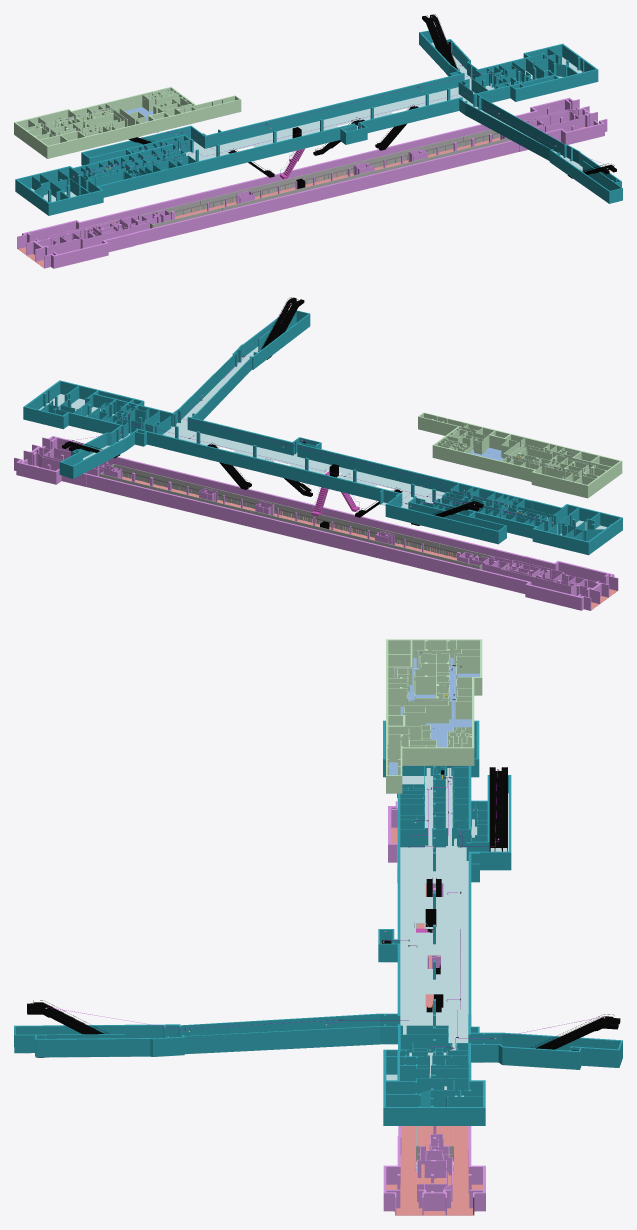
The picture shows the model from 3 angles, top to bottom: view 1: azimuth 30°, elevation 25°; view 2: azimuth 150°, elevation 25°; view 3: azimuth 270°, elevation 25°; orthographic projection. The views are drawn at different scales.
Visible parts, largest first — view 1: JZ-QT001, JZ-QT, JZ-QT002, JZ-QT-002, JZ-DM001, PPM001, JZ-QT-1, PPM, JZ-QT-003, JZ-DM, JZ-FT-007, Obj_KX; view 2: JZ-QT001, JZ-QT, JZ-QT002, JZ-QT-002, JZ-DM001, PPM001, JZ-QT-1, PPM, JZ-QT-003, JZ-DM, Obj_KX, JZ-FT-006; view 3: JZ-QT001, JZ-DM001, JZ-QT002, JZ-QT-002, JZ-DM, JZ-QT, JZ-QT-003, JZ-DM002, JZ-QT-1, JZ-FT-005, Obj_KX, JZ-FT-007 (+1 smaller).
Part boxes in pixels (left/top/right/bottom): JZ-QT001: left=15, top=31, right=622, bottom=215; JZ-QT: left=17, top=99, right=607, bottom=268; JZ-QT002: left=14, top=87, right=241, bottom=158; JZ-QT-002: left=16, top=30, right=622, bottom=203; JZ-DM001: left=23, top=42, right=591, bottom=214; PPM001: left=139, top=160, right=376, bottom=228; JZ-QT-1: left=17, top=97, right=606, bottom=256; PPM: left=364, top=129, right=510, bottom=173; JZ-QT-003: left=14, top=87, right=240, bottom=146; JZ-DM: left=18, top=126, right=589, bottom=267; JZ-FT-007: left=422, top=14, right=457, bottom=75; Obj_KX: left=72, top=17, right=605, bottom=175; JZ-QT001: left=23, top=311, right=622, bottom=555; JZ-QT: left=14, top=437, right=618, bottom=610; JZ-QT002: left=418, top=413, right=622, bottom=498; JZ-QT-002: left=23, top=310, right=622, bottom=542; JZ-DM001: left=23, top=346, right=606, bottom=554; PPM001: left=100, top=464, right=492, bottom=569; JZ-QT-1: left=15, top=436, right=617, bottom=598; PPM: left=100, top=464, right=262, bottom=512; JZ-QT-003: left=418, top=412, right=621, bottom=485; JZ-DM: left=32, top=465, right=617, bottom=610; Obj_KX: left=74, top=304, right=551, bottom=522; JZ-FT-006: left=261, top=297, right=304, bottom=359; JZ-QT001: left=14, top=722, right=622, bottom=1125; JZ-DM001: left=15, top=768, right=616, bottom=1096; JZ-QT002: left=386, top=640, right=482, bottom=793; JZ-QT-002: left=14, top=720, right=622, bottom=1107; JZ-DM: left=384, top=827, right=485, bottom=1215; JZ-QT: left=383, top=807, right=485, bottom=1215; JZ-QT-003: left=386, top=639, right=482, bottom=775; JZ-DM002: left=386, top=658, right=479, bottom=793; JZ-QT-1: left=383, top=801, right=485, bottom=1197; JZ-FT-005: left=489, top=767, right=507, bottom=851; Obj_KX: left=46, top=766, right=603, bottom=1048; JZ-FT-007: left=536, top=1016, right=620, bottom=1049.
Size of the model in its own units: 287 by 60.73 by 186.
